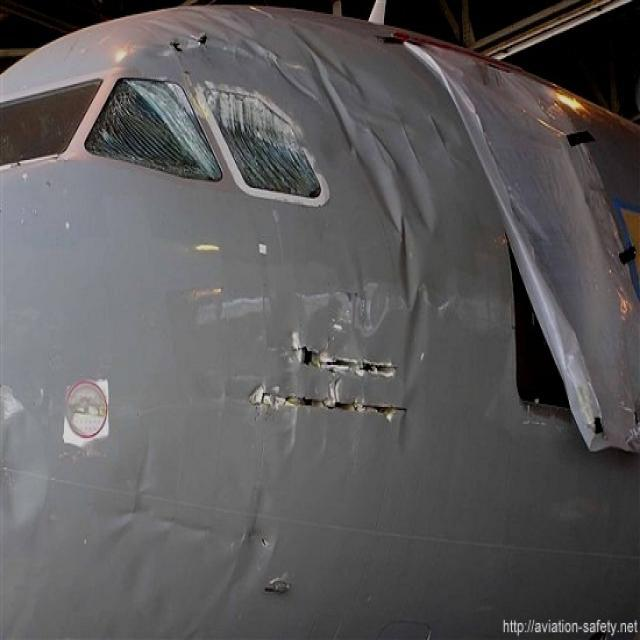crack: (248, 336, 415, 424)
dent: (174, 2, 474, 461)
